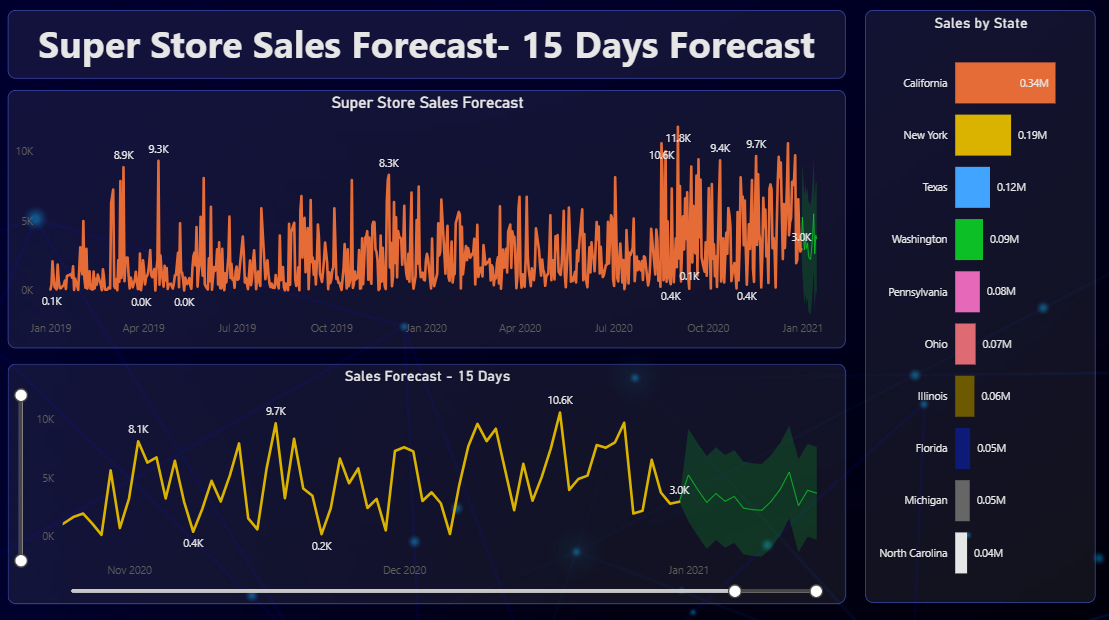

This screenshot's page, from the dashboard's own definition file:
{"tool":"powerbi","page":{"name":"Page 2","canvas":[1280,720],"ordinal":1},"visuals":[{"type":"lineChart","title":"Super Store Sales Forecast","fields":{"Y":["Sum(SuperStore_Sales_Dataset.Sales)"],"Category":["SuperStore_Sales_Dataset.Order Date.Variation.Date Hierarchy.Year","SuperStore_Sales_Dataset.Order Date.Variation.Date Hierarchy.Quarter","SuperStore_Sales_Dataset.Order Date.Variation.Date Hierarchy.Month","SuperStore_Sales_Dataset.Order Date.Variation.Date Hierarchy.Day"]},"box":[15.1,108.4,957.8,295],"z":0},{"type":"lineChart","title":"Sales Forecast - 15 Days","fields":{"Y":["Sum(SuperStore_Sales_Dataset.Sales)"],"Category":["SuperStore_Sales_Dataset.Order Date.Variation.Date Hierarchy.Year","SuperStore_Sales_Dataset.Order Date.Variation.Date Hierarchy.Quarter","SuperStore_Sales_Dataset.Order Date.Variation.Date Hierarchy.Month","SuperStore_Sales_Dataset.Order Date.Variation.Date Hierarchy.Day"]},"box":[15.1,421.3,957.8,274.4],"z":1000},{"type":"textbox","box":[15.1,17.8,957.8,78.2],"z":2000},{"type":"clusteredBarChart","title":"Sales by State","fields":{"Category":["SuperStore_Sales_Dataset.State"],"Y":["Sum(SuperStore_Sales_Dataset.Sales)"]},"box":[996.2,17.8,263.5,677.9],"z":3000}]}

Visuals, with their boxes in screenshot pixels (x1, y1, x2, y2), scaled from the page's 1280x720 canvas onto the 1109x620 screenshot:
"Super Store Sales Forecast" lineChart: crop(13, 93, 843, 347)
"Sales Forecast - 15 Days" lineChart: crop(13, 363, 843, 599)
textbox: crop(13, 15, 843, 83)
"Sales by State" clusteredBarChart: crop(863, 15, 1091, 599)
